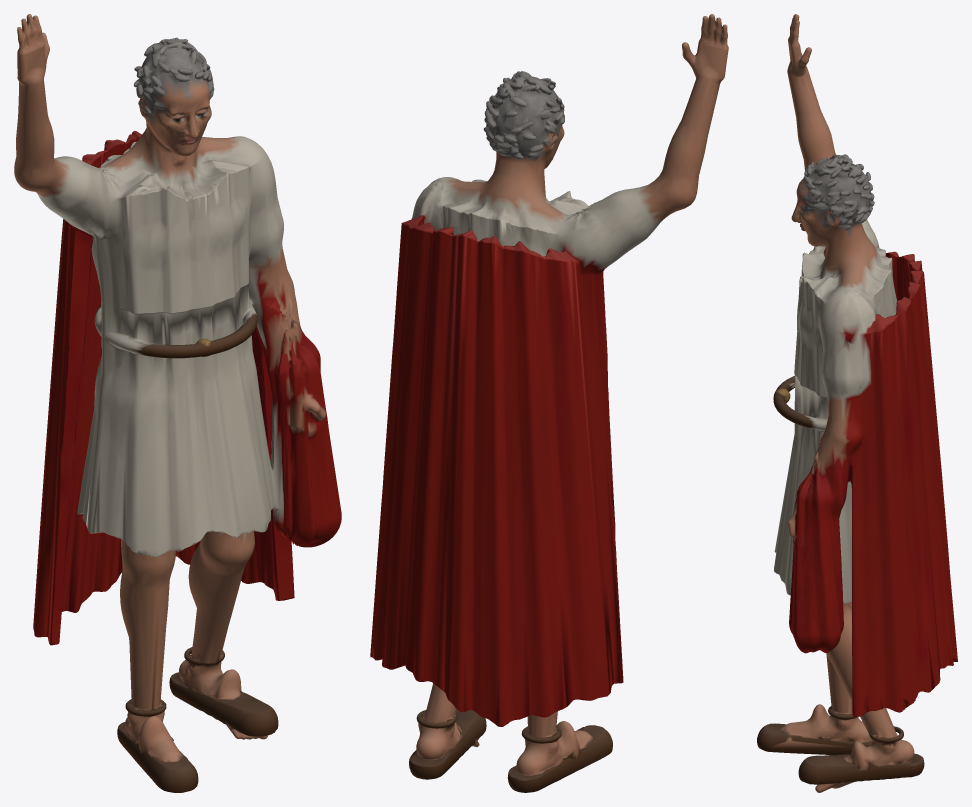
File: pliny.glb
3 views of the same model, side by side, from view 1: azimuth 30°, elevation 25°; view 2: azimuth 150°, elevation 25°; view 3: azimuth 270°, elevation 25° (orthographic). The views are drawn at different scales.
Visible parts, largest first — view 1: Pliny; view 2: Pliny; view 3: Pliny.
Part boxes in pixels (<box>): Pliny: <box>14,14,341,792</box>; Pliny: <box>370,14,728,792</box>; Pliny: <box>757,14,957,792</box>.
Bounding box in the file's own units: 0.9071 × 2.09 × 0.5629.
